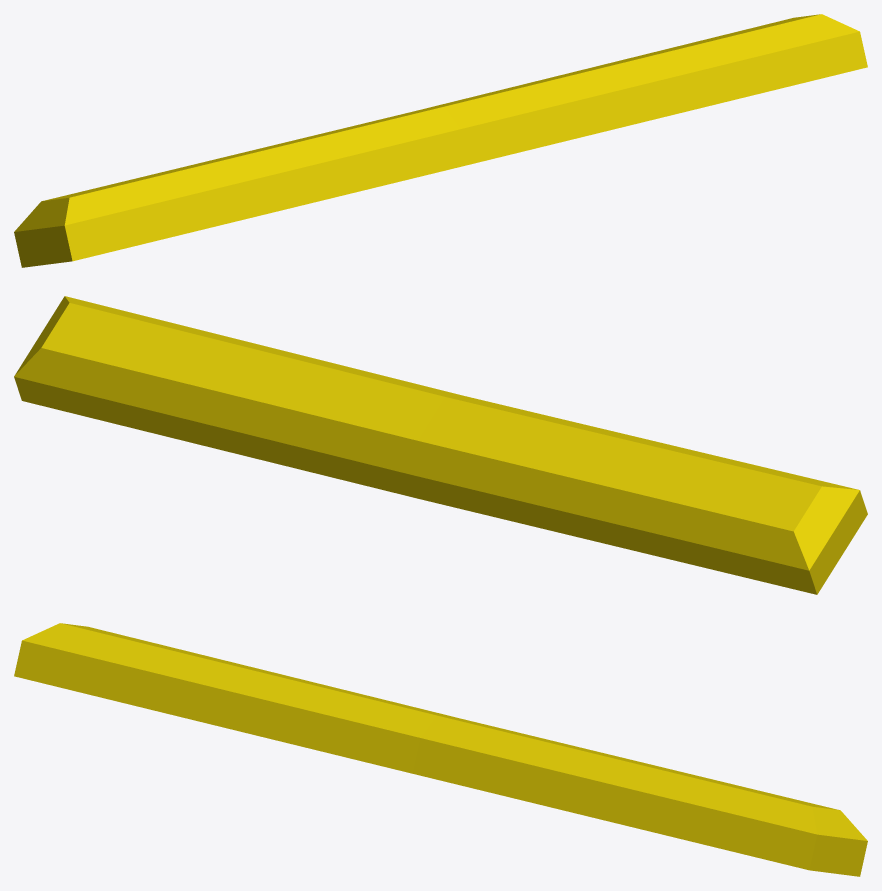
File: CarPowerBar.fbx
3 renders of one model, top to bottom at view 1: azimuth 30°, elevation 25°; view 2: azimuth 150°, elevation 25°; view 3: azimuth 330°, elevation 25°, orthographic.
Visible parts, largest first — view 1: Car.001; view 2: Car.001; view 3: Car.001.
Part boxes in pixels (left/top/right/bottom): Car.001: left=14, top=14, right=867, bottom=267; Car.001: left=14, top=296, right=867, bottom=594; Car.001: left=14, top=623, right=867, bottom=876.
Size of the model in its own units: 74.68 by 7.65 by 9.53.
